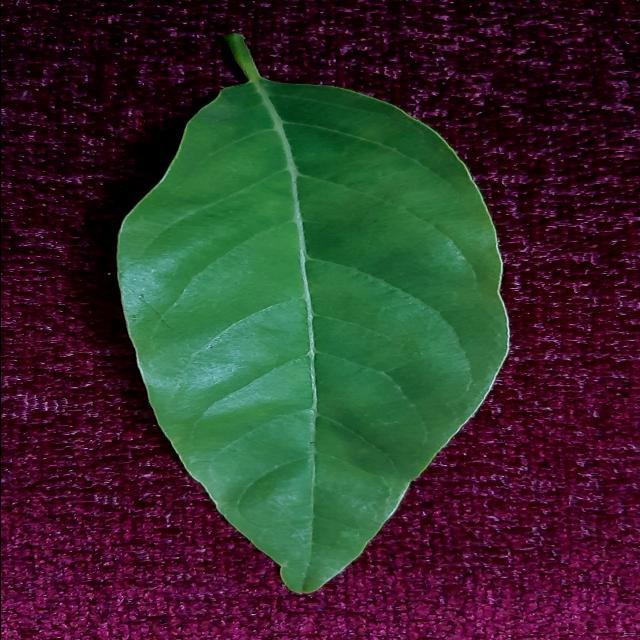leaf: (115, 31, 511, 595)
